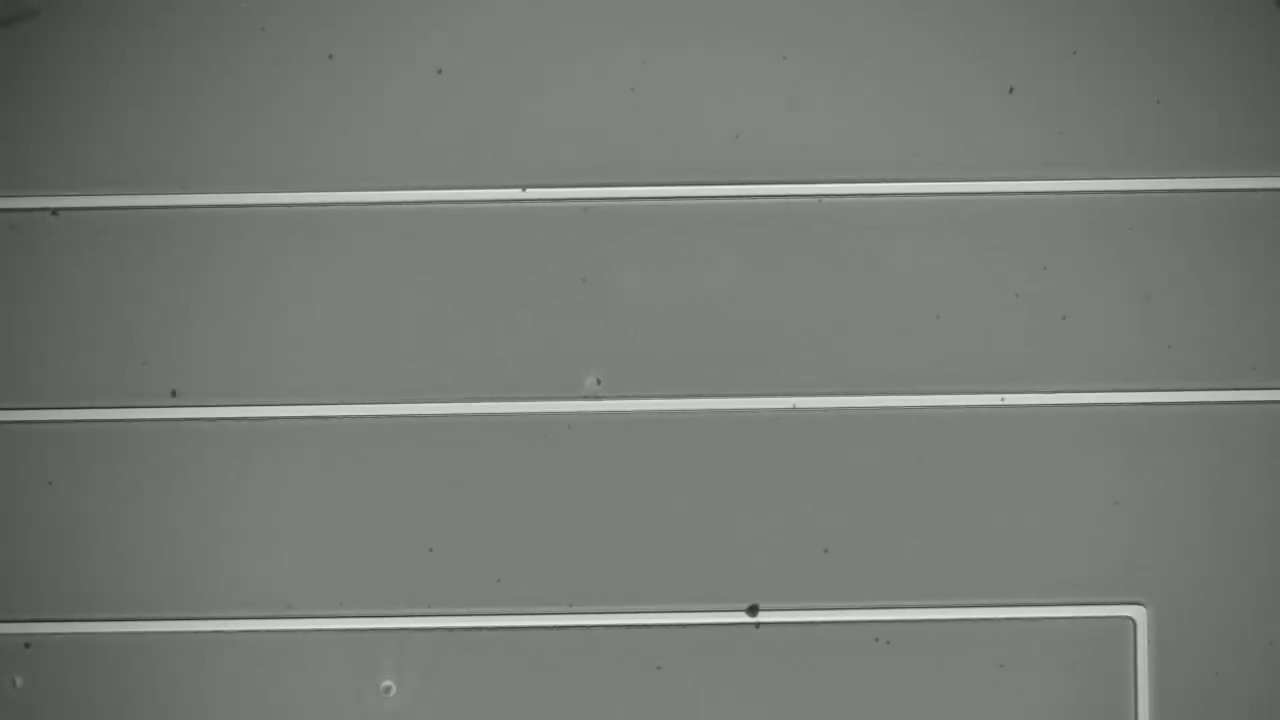stains_enbedded: (740, 595, 774, 635)
